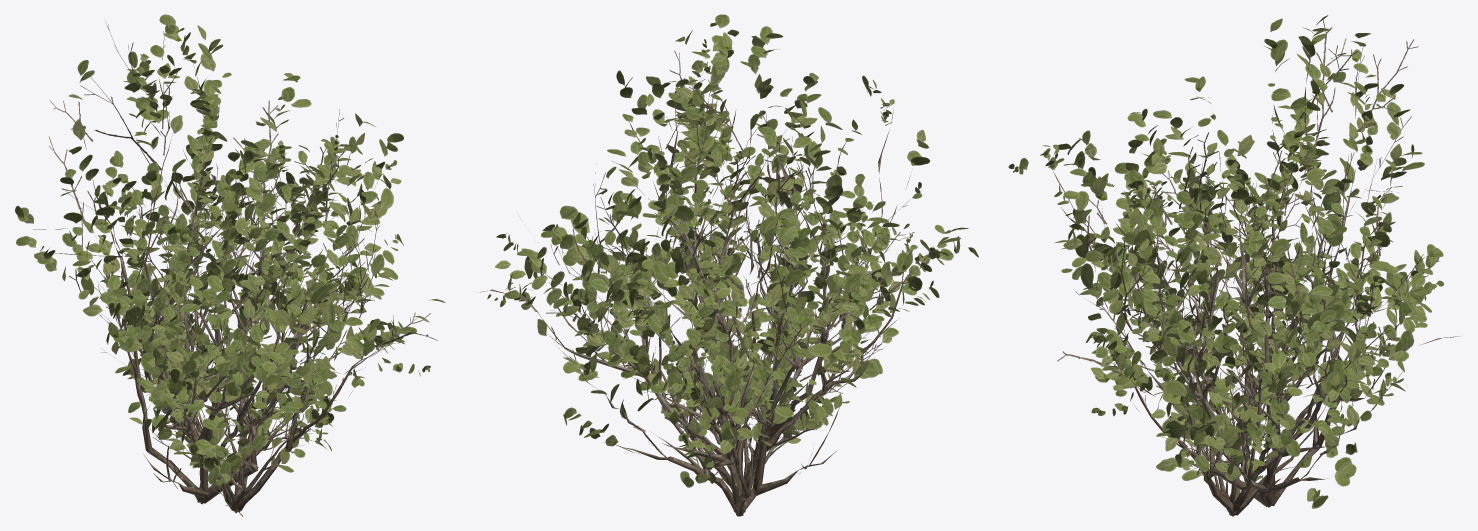
Rendered from buta.glb.
3 renders of one model, left to right at view 1: azimuth 30°, elevation 25°; view 2: azimuth 150°, elevation 25°; view 3: azimuth 270°, elevation 25°, orthographic. The views are drawn at different scales.
Visible parts, largest first — view 1: buta_0, buta_1, buta_2; view 2: buta_0, buta_1, buta_2; view 3: buta_0, buta_1, buta_2.
Boxes of the visible parts, <box> form: buta_0: <box>15,14,437,504</box>; buta_1: <box>113,186,445,512</box>; buta_2: <box>129,312,353,516</box>; buta_0: <box>478,14,978,516</box>; buta_1: <box>599,151,950,492</box>; buta_2: <box>650,297,849,487</box>; buta_0: <box>1008,15,1460,508</box>; buta_1: <box>1090,142,1381,516</box>; buta_2: <box>1169,265,1302,503</box>.
Bounding box in the file's own units: 1.78 × 2.34 × 1.97.
2 materials, 2 textured.
